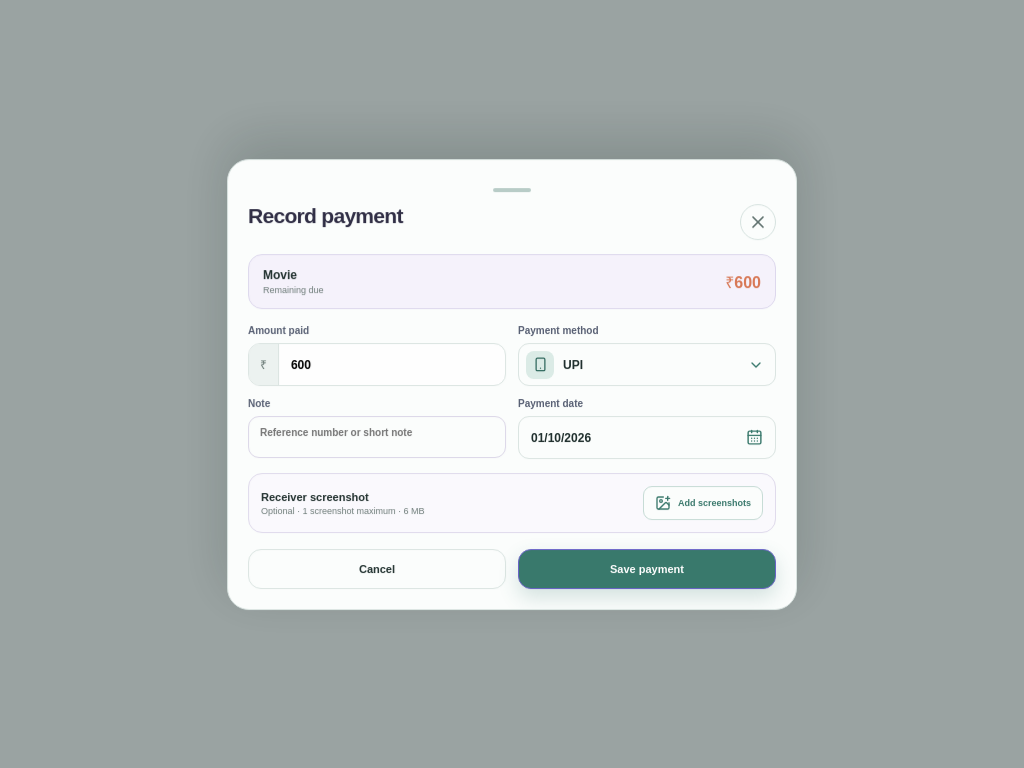
Test: record payment sheet › rejects amounts smaller than one paise precision
Replace the text in the field labelled "Amount paid ₹" with "10.001" at (392, 364), box x1=279 y1=343 x2=505 y2=385
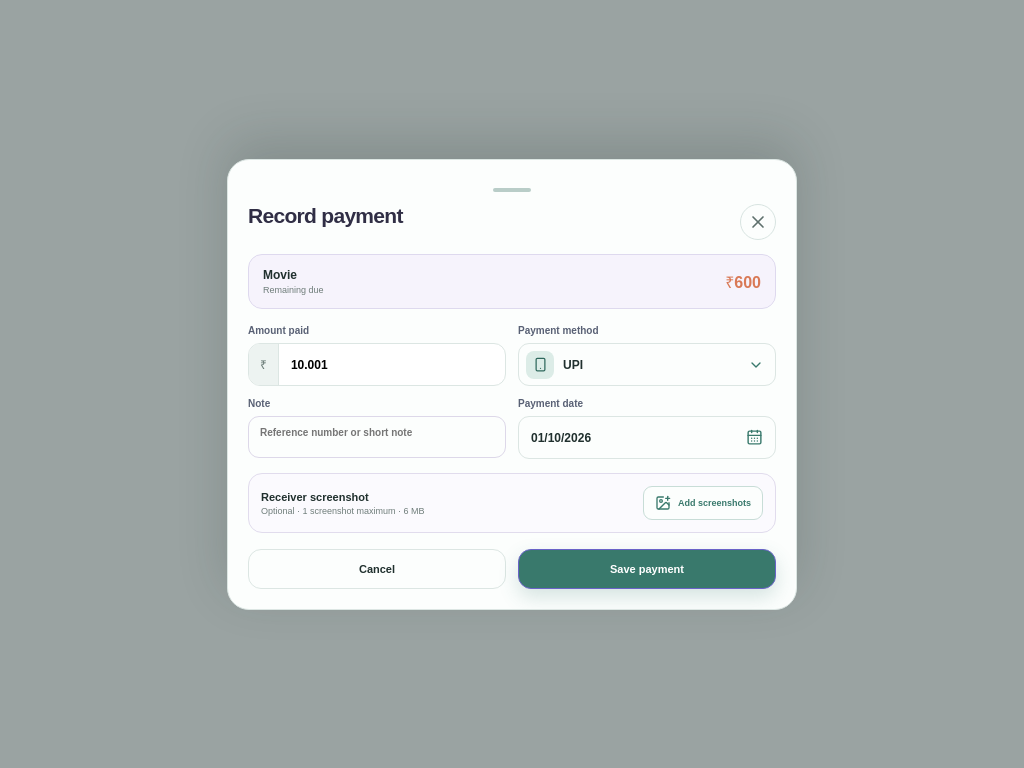
Click the button "Save payment" at (647, 568), box x1=518 y1=548 x2=776 y2=588
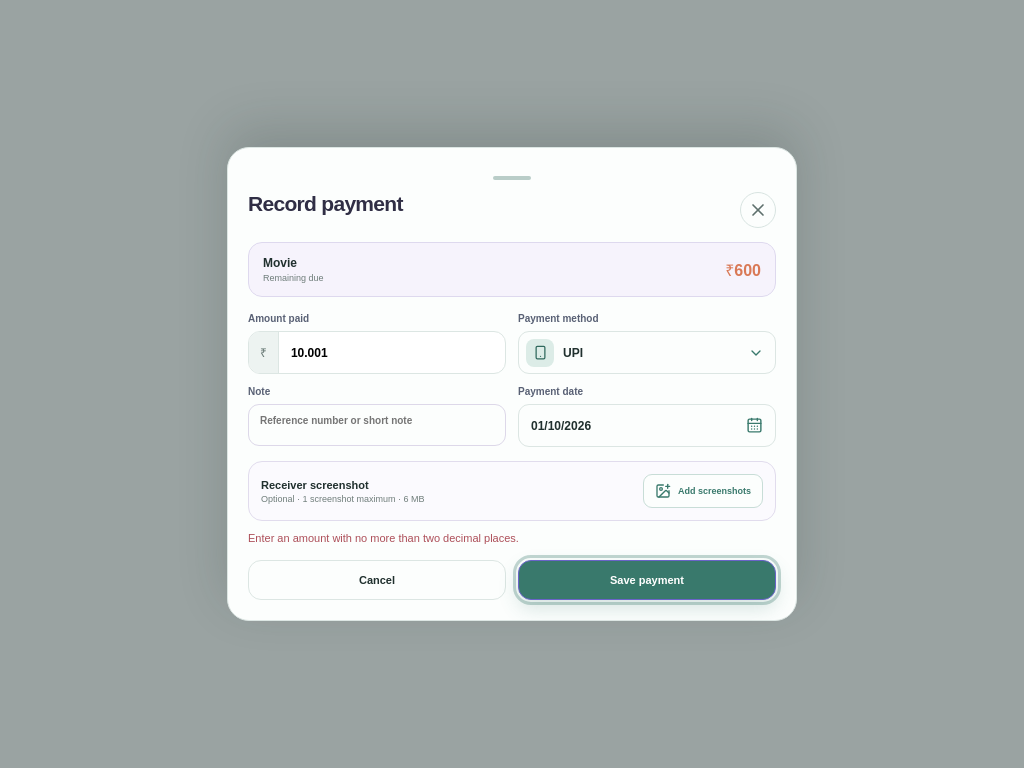
Expected: the message shows "two decimal places", x1=248 y1=532 x2=519 y2=544
